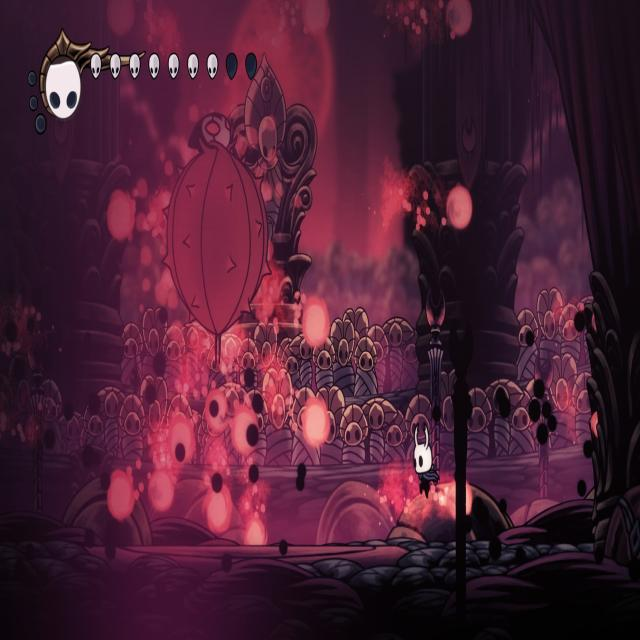Player: (411, 420, 441, 500)
Pufferfish: (156, 108, 272, 379)
Tiny Fireballs: (202, 480, 232, 535), (302, 398, 331, 448), (107, 190, 135, 241), (149, 462, 176, 514), (169, 412, 194, 467), (107, 470, 134, 520), (233, 407, 261, 455), (304, 298, 330, 349), (447, 184, 473, 229), (205, 390, 229, 434), (107, 0, 135, 36), (448, 0, 473, 39), (245, 515, 266, 546)
